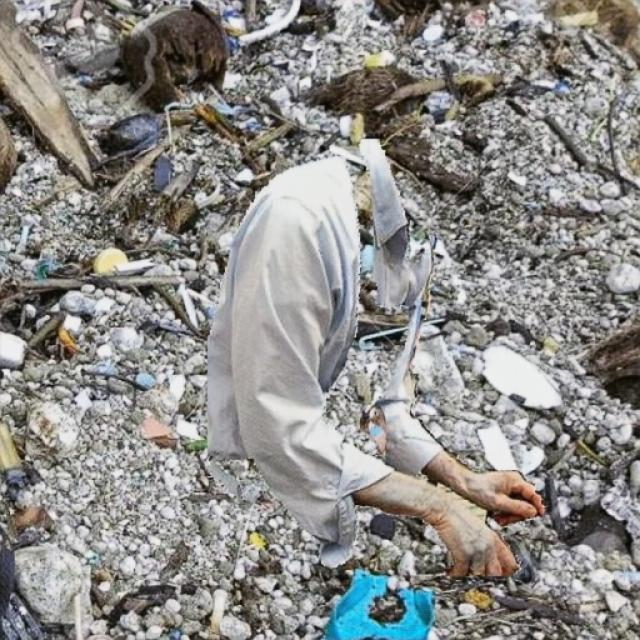Person in Rubble: (207, 139, 545, 575)
